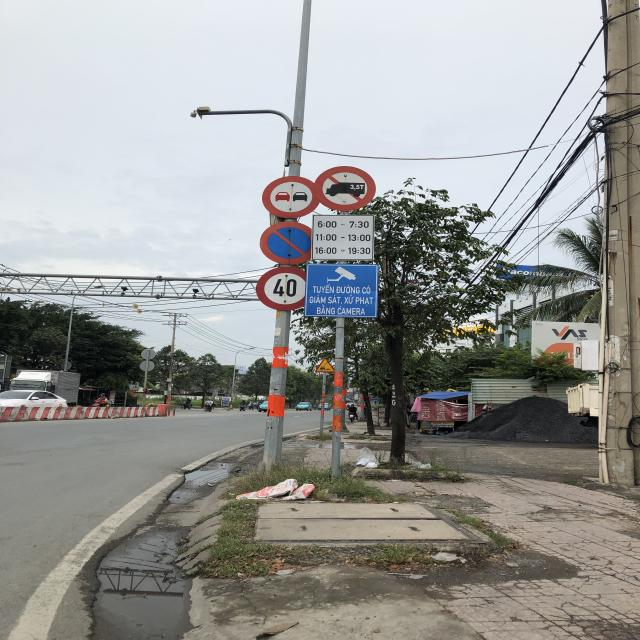Bien bao cam vuot: (260, 174, 322, 221)
